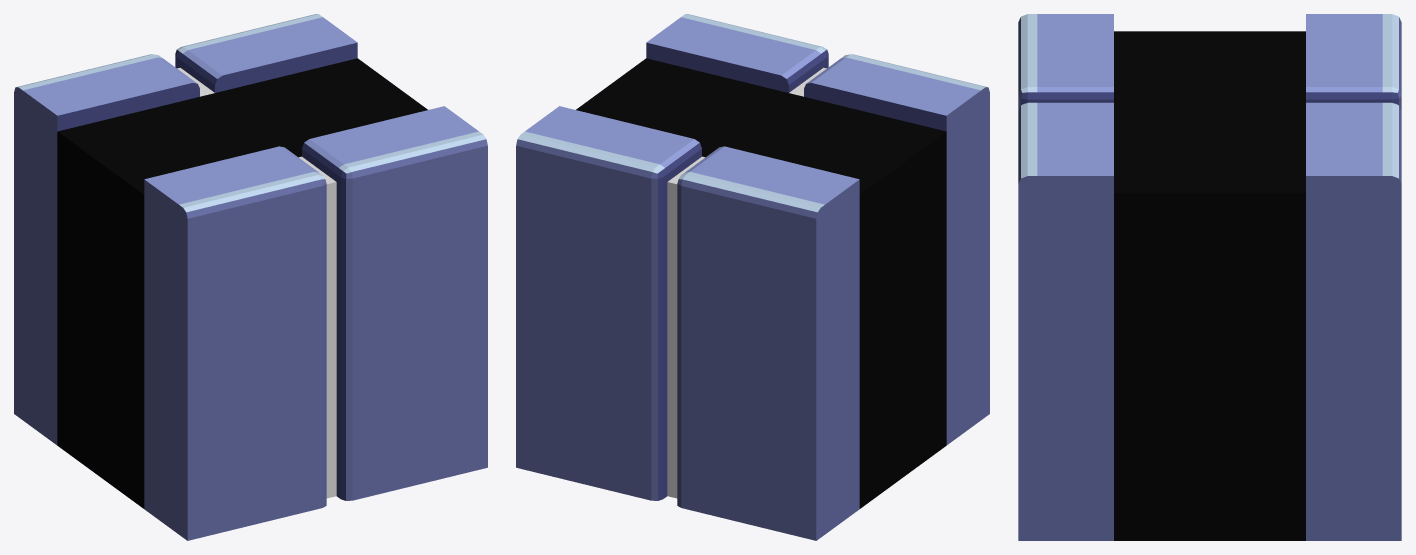
The model's file is UFO_Wall_Full.fbx.
3 views of the same model, side by side, from view 1: azimuth 30°, elevation 25°; view 2: azimuth 150°, elevation 25°; view 3: azimuth 270°, elevation 25° (orthographic). The views are drawn at different scales.
Visible parts, largest first — view 1: Cube.007; view 2: Cube.007; view 3: Cube.007.
Boxes of the visible parts, x1,y1,x2,y2 form: Cube.007: (14,14,487,540); Cube.007: (516,14,989,540); Cube.007: (1018,14,1401,540).
Bounding box in the file's own units: 2 × 2.1 × 2.
